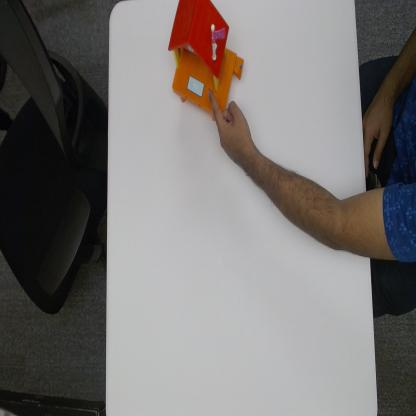Arm: (253, 142, 366, 258)
Hand: (206, 85, 254, 173)
House: (167, 0, 242, 116)
